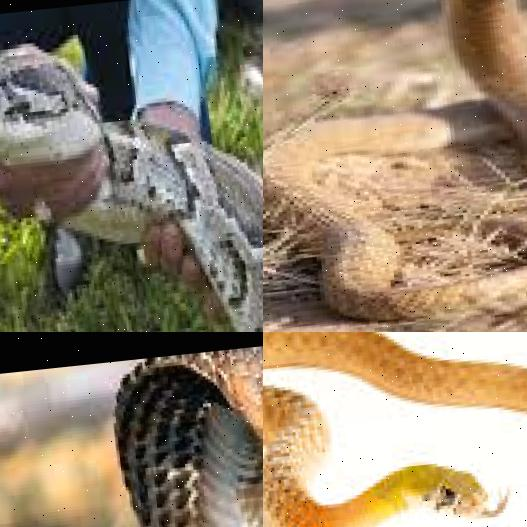1: (263, 0, 527, 332)
2: (263, 332, 527, 527)
5: (113, 332, 263, 527)
snake: (0, 0, 263, 332)
